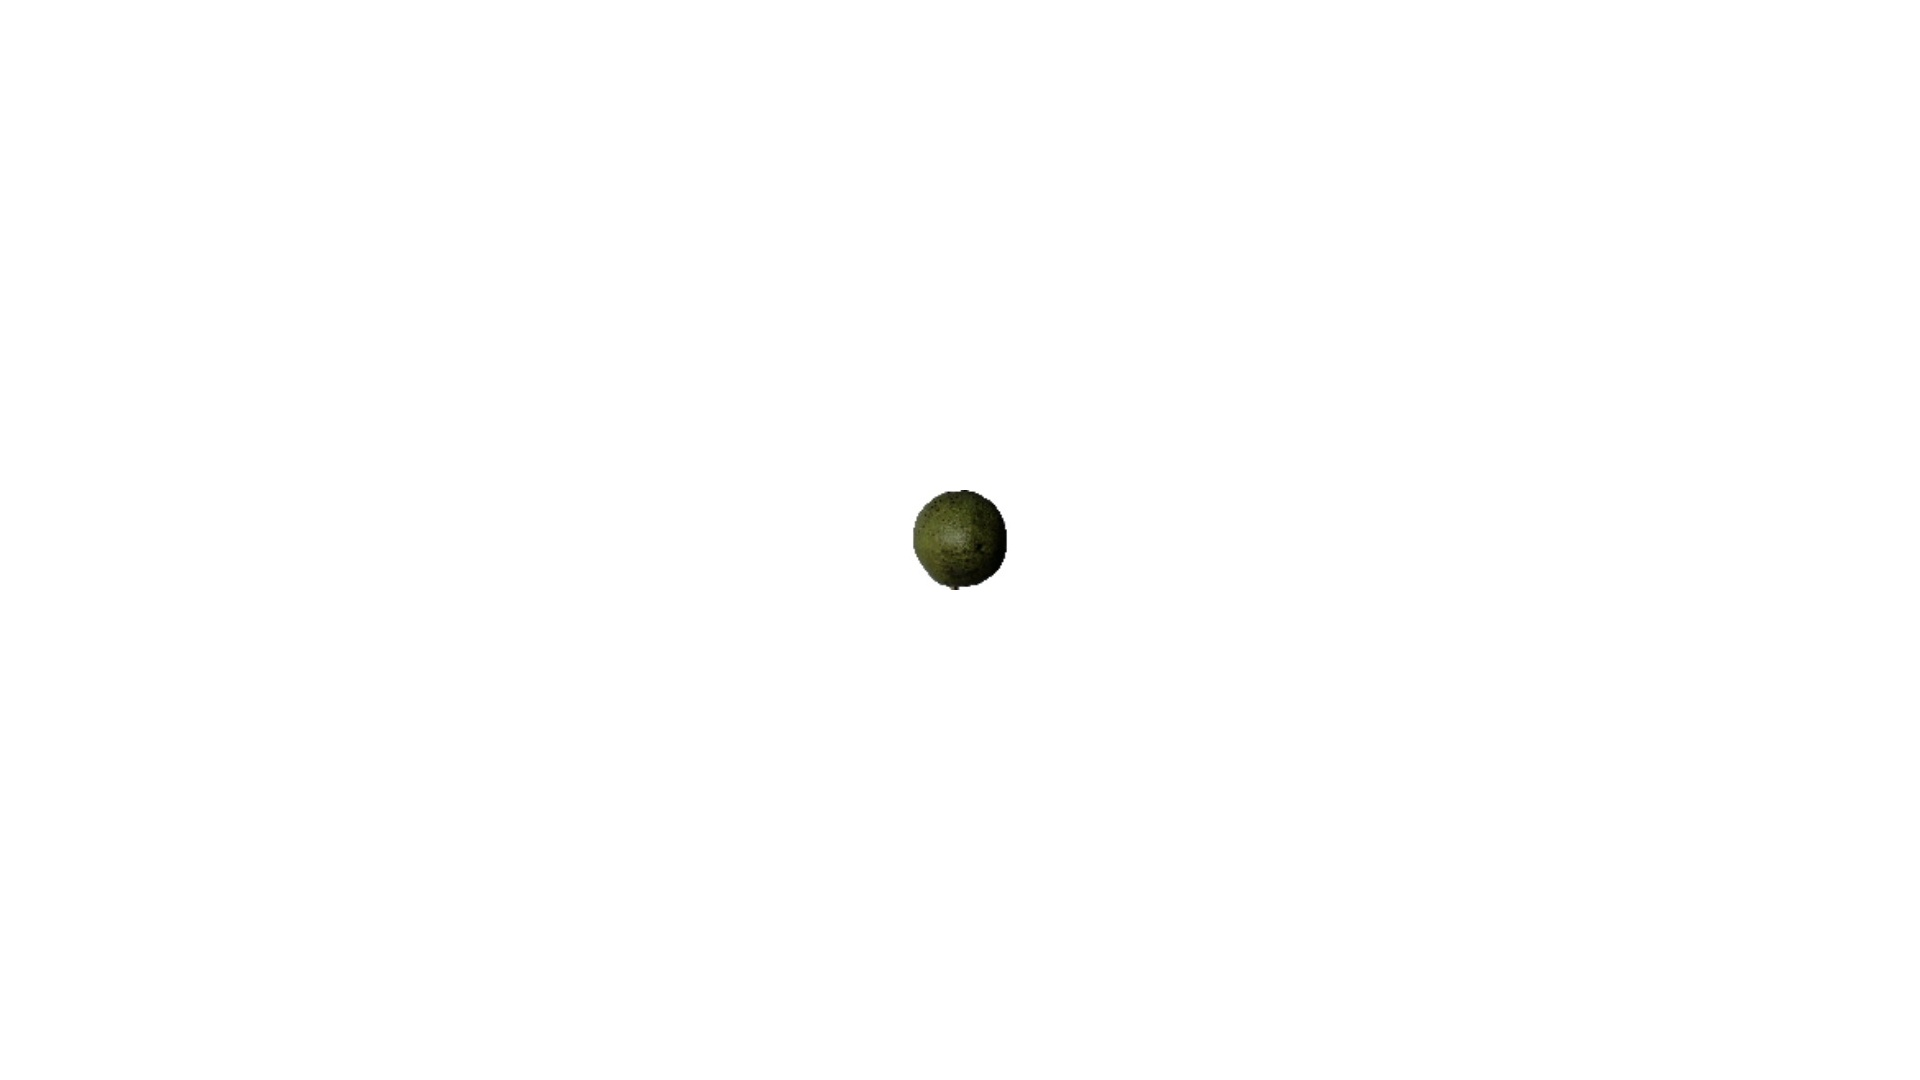abacate: (910, 487, 1014, 592)
